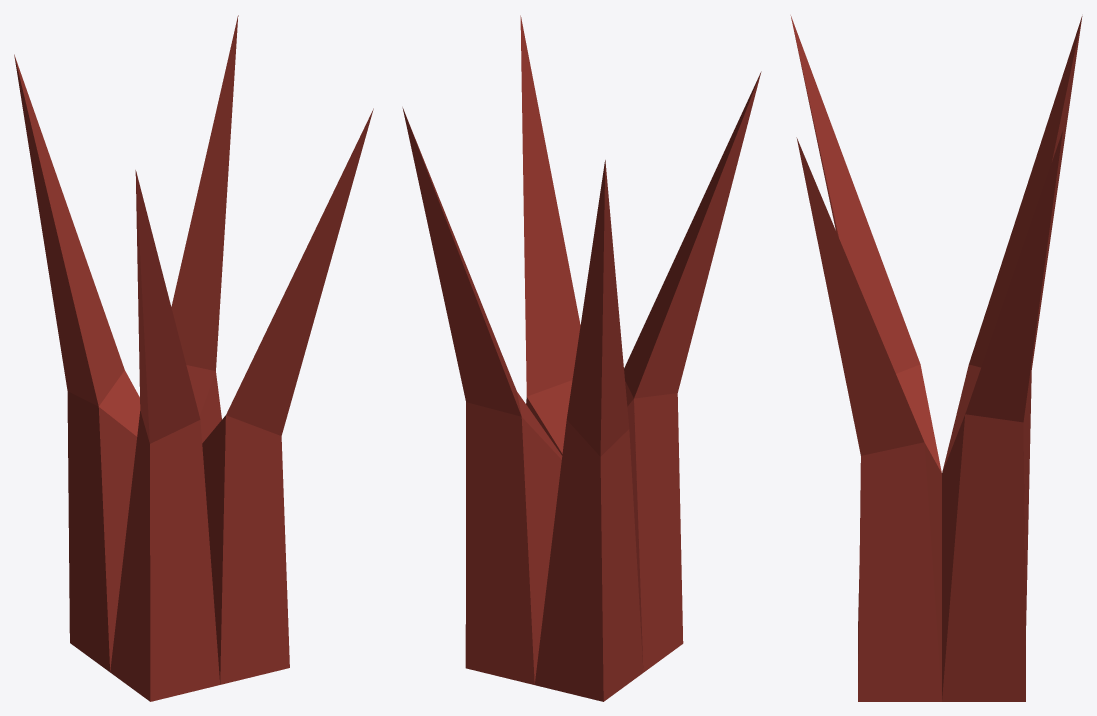
File: Grass_6_Red.fbx
The picture shows the model from 3 angles, left to right: view 1: azimuth 30°, elevation 25°; view 2: azimuth 150°, elevation 25°; view 3: azimuth 270°, elevation 25°; orthographic projection. The views are drawn at different scales.
Visible parts, largest first — view 1: Grass_6_Red; view 2: Grass_6_Red; view 3: Grass_6_Red.
Boxes of the visible parts, <box> form: Grass_6_Red: <box>14,15,373,701</box>; Grass_6_Red: <box>402,15,761,701</box>; Grass_6_Red: <box>790,15,1082,701</box>.
Size of the model in its own units: 17.29 by 39.51 by 17.38.
